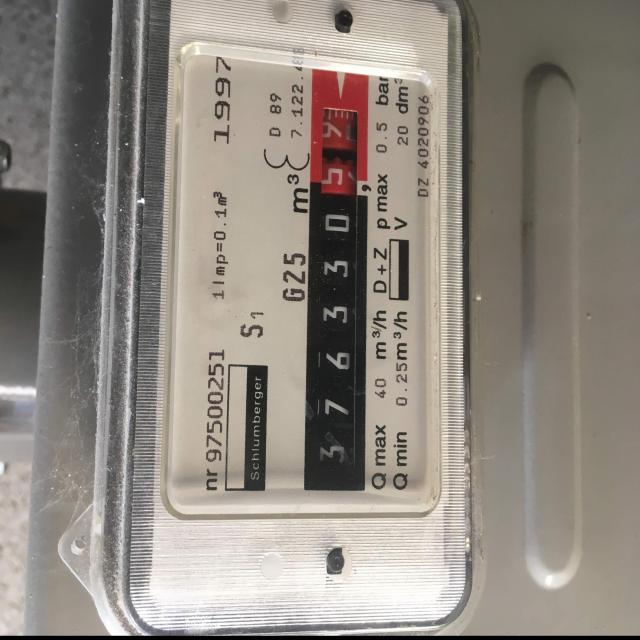gaz_meter: (180, 44, 442, 516)
indication: (304, 104, 369, 484)
